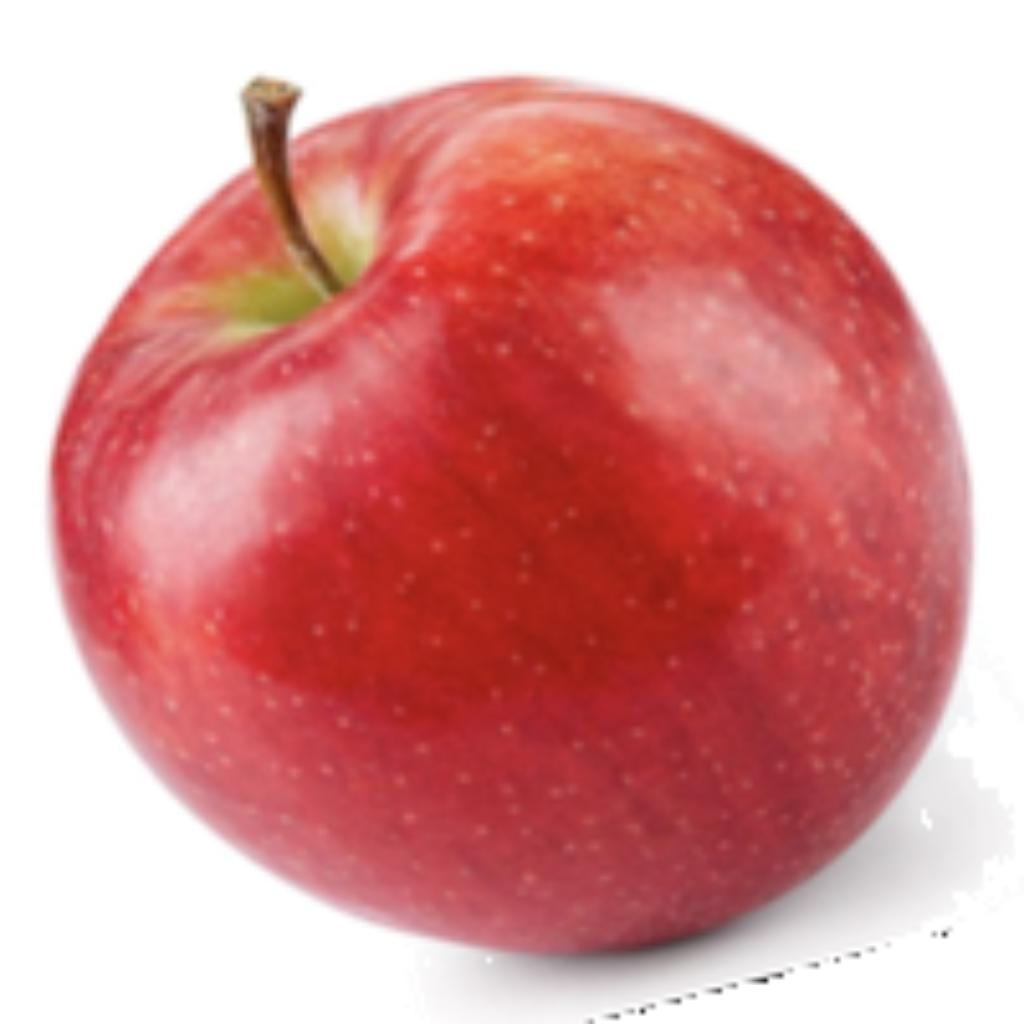apple: (36, 67, 1014, 1019)
